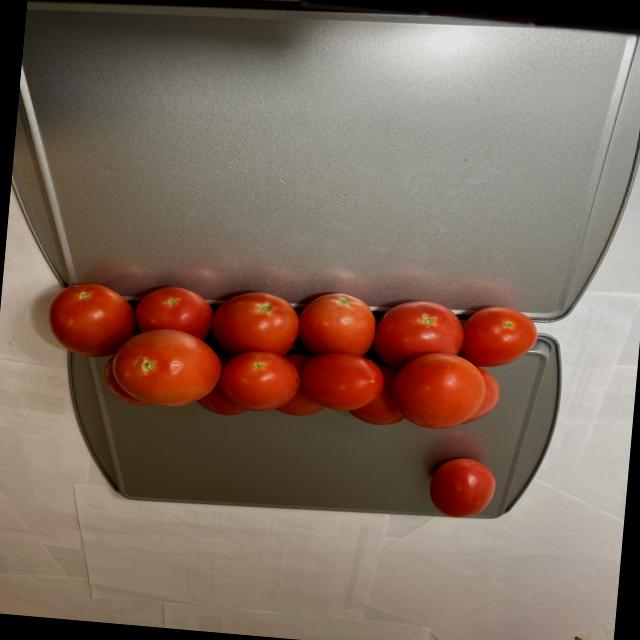tomato: (30, 263, 539, 440), (419, 452, 504, 521)
